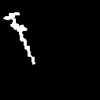double_crochet: (4, 13, 34, 63)
